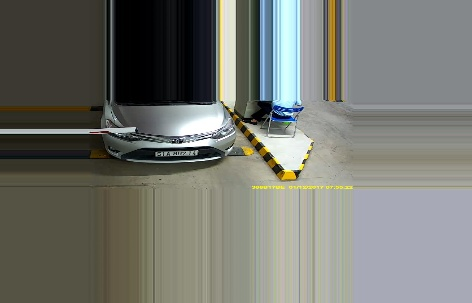plate: (153, 148, 200, 159)
